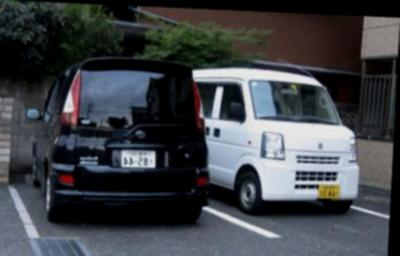License_Plate: (122, 148, 157, 168), (319, 184, 340, 197)
